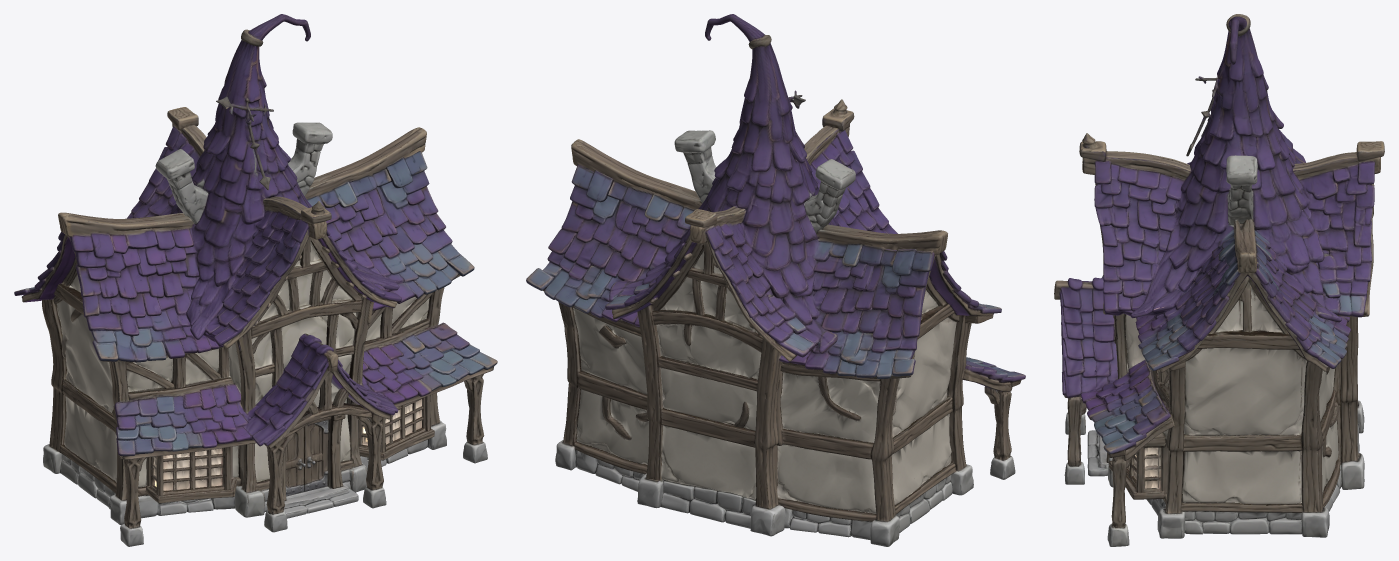
The model's file is SilverStore_300k.glb.
The picture shows the model from 3 angles, left to right: view 1: azimuth 30°, elevation 25°; view 2: azimuth 150°, elevation 25°; view 3: azimuth 270°, elevation 25°; orthographic projection. The views are drawn at different scales.
Parts seen in each view (by area): view 1: Mesh_0; view 2: Mesh_0; view 3: Mesh_0.
Boxes of the visible parts, x1,y1,x2,y2 form: Mesh_0: (14,14,497,546); Mesh_0: (526,14,1025,546); Mesh_0: (1054,14,1384,546).
Bounding box in the file's own units: 1.73 × 1.9 × 1.26.
Materials: 1 (1 with a texture image).
